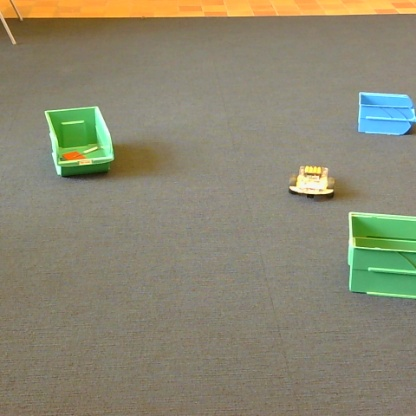robot: (288, 166, 334, 197)
